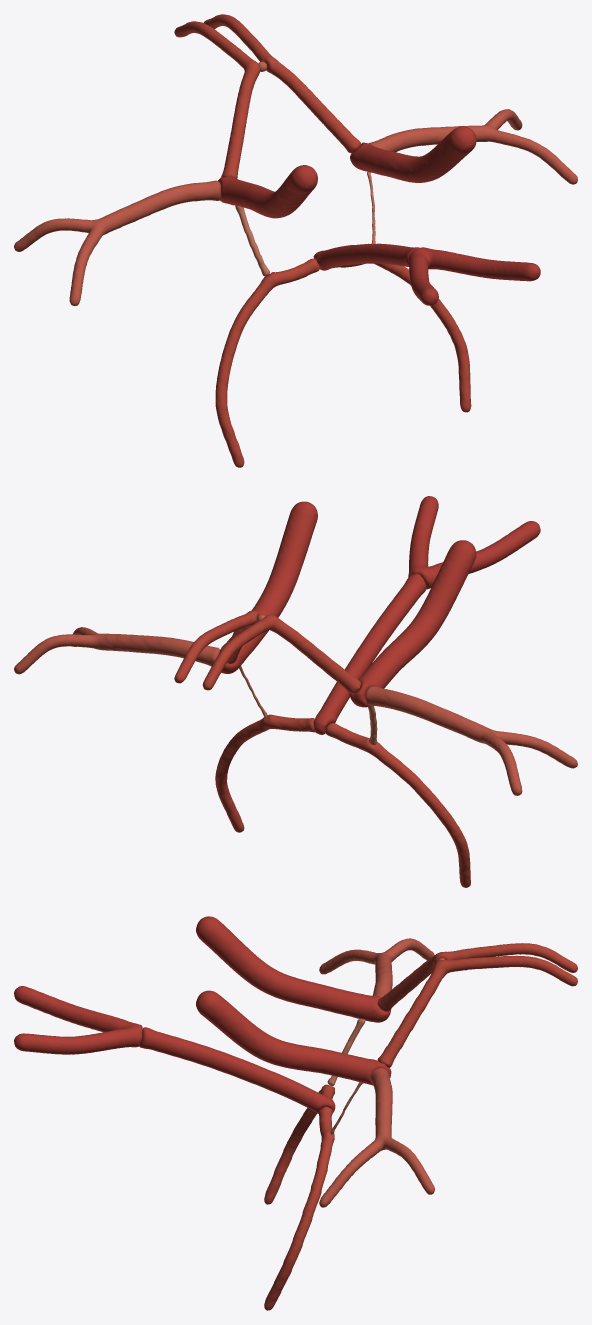
File: willis_pcom_hypoplasia.glb
3 views of the same model, one above another, from view 1: azimuth 30°, elevation 25°; view 2: azimuth 150°, elevation 25°; view 3: azimuth 270°, elevation 25° (orthographic). The views are drawn at different scales.
Parts seen in each view (by area): view 1: middle_cerebrals, internal_carotids, anterior_cerebrals, posterior_cerebrals, vertebral_arteries, basilar_artery, posterior_communicatings; view 2: internal_carotids, middle_cerebrals, posterior_cerebrals, anterior_cerebrals, basilar_artery, vertebral_arteries; view 3: internal_carotids, anterior_cerebrals, middle_cerebrals, vertebral_arteries, basilar_artery, posterior_cerebrals, posterior_communicatings.
Part boxes in pixels (left/top/right/bottom): middle_cerebrals: left=14, top=109, right=577, bottom=306; internal_carotids: left=218, top=126, right=476, bottom=218; anterior_cerebrals: left=174, top=14, right=360, bottom=178; posterior_cerebrals: left=215, top=258, right=471, bottom=467; vertebral_arteries: left=408, top=247, right=540, bottom=305; basilar_artery: left=313, top=243, right=419, bottom=270; posterior_communicatings: left=235, top=172, right=375, bottom=276; internal_carotids: left=219, top=501, right=476, bottom=707; middle_cerebrals: left=14, top=627, right=577, bottom=795; posterior_cerebrals: left=215, top=714, right=470, bottom=887; anterior_cerebrals: left=174, top=610, right=360, bottom=693; basilar_artery: left=313, top=573, right=426, bottom=734; vertebral_arteries: left=408, top=496, right=540, bottom=589; internal_carotids: left=196, top=916, right=391, bottom=1085; anterior_cerebrals: left=377, top=943, right=577, bottom=1067; middle_cerebrals: left=319, top=938, right=434, bottom=1207; vertebral_arteries: left=14, top=986, right=142, bottom=1054; basilar_artery: left=139, top=1027, right=335, bottom=1113; posterior_cerebrals: left=264, top=1084, right=334, bottom=1310; posterior_communicatings: left=327, top=1018, right=365, bottom=1134.
Bounding box in the file's own units: 17.9 × 10.8 × 17.99.
